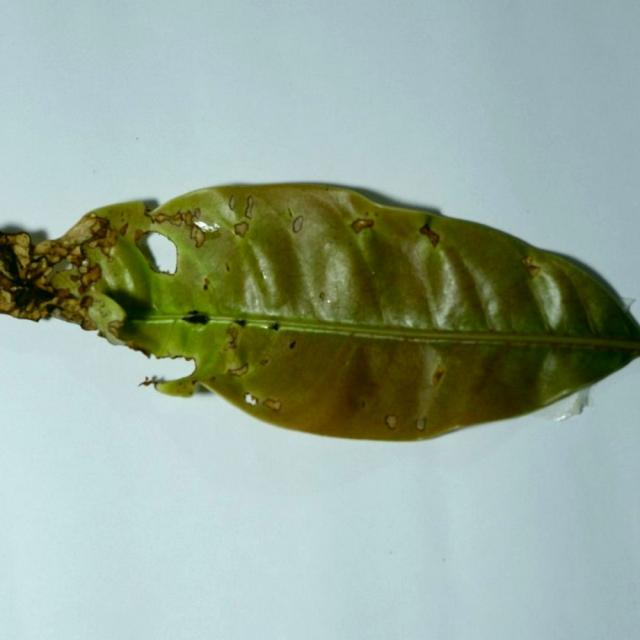Anthracnose: (140, 232, 180, 273), (225, 193, 264, 235), (9, 299, 51, 323), (147, 208, 192, 228), (10, 237, 32, 271), (312, 287, 343, 308), (84, 214, 112, 234), (419, 223, 440, 248), (80, 264, 103, 286), (349, 218, 376, 236), (520, 255, 541, 278), (181, 310, 212, 325), (46, 243, 71, 261), (223, 325, 240, 351), (155, 352, 191, 364), (190, 225, 206, 248), (34, 240, 56, 256), (30, 257, 48, 276), (106, 320, 124, 338), (13, 232, 30, 251), (68, 309, 87, 326), (0, 288, 14, 311), (85, 236, 107, 250), (102, 229, 119, 247), (0, 273, 16, 292), (202, 227, 222, 242), (138, 375, 163, 387), (227, 363, 248, 377), (432, 364, 446, 385), (263, 397, 282, 412), (176, 380, 195, 395), (244, 195, 255, 220), (233, 221, 249, 238), (152, 212, 174, 224), (54, 288, 74, 301), (68, 245, 83, 261), (291, 215, 304, 233), (81, 316, 96, 331), (98, 244, 114, 258), (384, 414, 398, 429), (79, 295, 94, 309), (22, 299, 36, 313), (133, 228, 146, 243), (77, 281, 91, 294), (97, 330, 112, 342), (44, 302, 59, 314), (184, 355, 196, 369), (35, 275, 49, 287), (118, 222, 129, 237), (202, 277, 212, 293), (138, 347, 151, 359), (415, 417, 426, 431), (246, 393, 258, 405), (107, 251, 118, 263), (234, 318, 247, 328), (228, 195, 236, 211), (193, 207, 201, 220), (259, 357, 270, 366), (269, 322, 280, 331), (70, 274, 80, 283), (79, 264, 88, 274), (288, 340, 297, 349), (10, 285, 21, 292), (225, 261, 231, 272), (287, 207, 293, 218), (191, 379, 199, 387), (143, 206, 151, 214), (318, 292, 325, 301), (360, 399, 366, 408), (89, 212, 96, 218), (370, 270, 376, 276), (210, 376, 216, 381)
Mango: (0, 182, 639, 445)
